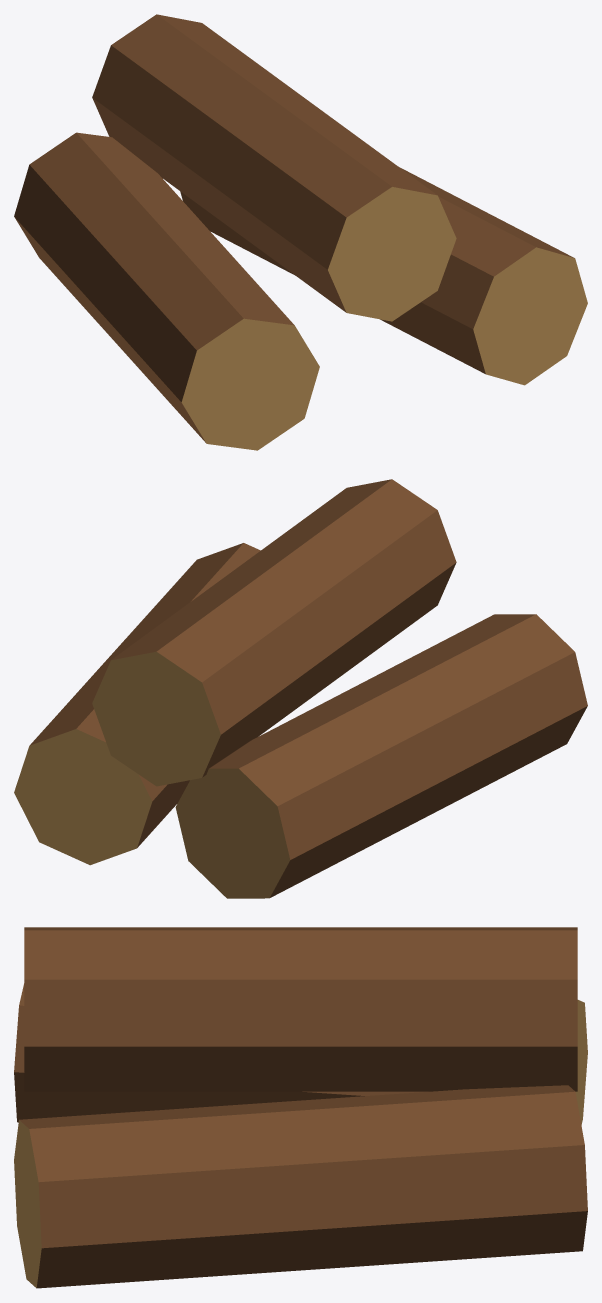
The picture shows the model from 3 angles, top to bottom: view 1: azimuth 30°, elevation 25°; view 2: azimuth 150°, elevation 25°; view 3: azimuth 270°, elevation 25°; orthographic projection. The views are drawn at different scales.
Parts seen in each view (by area): view 1: Carried wood; view 2: Carried wood; view 3: Carried wood.
Part boxes in pixels (x1,y1,x2,y2): Carried wood: [14, 14, 587, 450]; Carried wood: [14, 479, 587, 898]; Carried wood: [14, 927, 587, 1288].
Bounding box in the file's own units: 0.5676 × 0.3096 × 0.5913.
